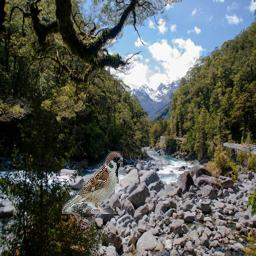Sparrow: (63, 152, 124, 215)
